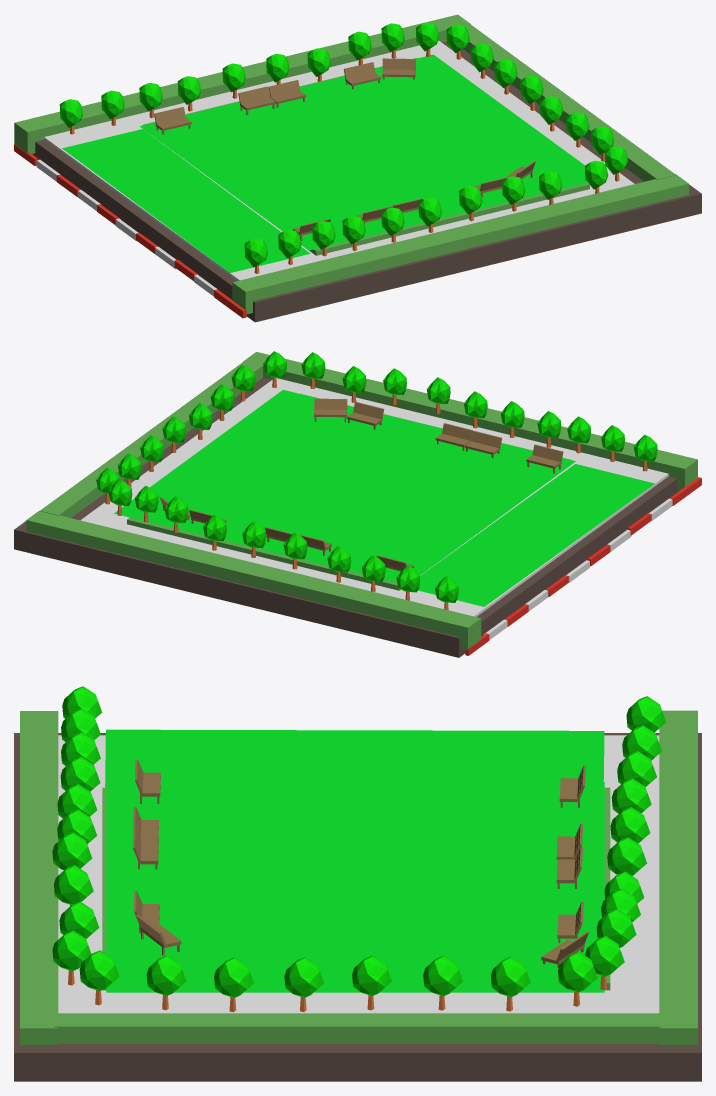
File: sanamluang05.glb
The picture shows the model from 3 angles, top to bottom: view 1: azimuth 30°, elevation 25°; view 2: azimuth 150°, elevation 25°; view 3: azimuth 270°, elevation 25°; orthographic projection. The views are drawn at different scales.
Parts seen in each view (by area): view 1: Plane, ลูกบาศก์, Plane.001, ลูกบาศก์.005, ลูกบาศก์.001, ลูกบาศก์.004, ลูกบาศก์.006, ลูกบาศก์.002, Cube.161, Cube.158, Cube.163, Cube.159 (+29 smaller); view 2: Plane, ลูกบาศก์, Plane.001, ลูกบาศก์.004, ลูกบาศก์.001, ลูกบาศก์.005, ลูกบาศก์.006, ลูกบาศก์.002, Cube.154, Cube.162, Cube.155, Cube.157 (+28 smaller); view 3: Plane, ลูกบาศก์, Plane.001, ลูกบาศก์.001, ลูกบาศก์.006, ลูกบาศก์.004, ลูกบาศก์.005, ลูกบาศก์.002, Cylinder.050, Cylinder.026, Cylinder.047, Cylinder.048 (+32 smaller).
Part boxes in pixels (x1,y1,x2,y2): Plane: (140,54,587,250); ลูกบาศก์: (32,28,701,322); Plane.001: (62,129,310,272); ลูกบาศก์.005: (232,174,688,314); ลูกบาศก์.001: (44,41,634,280); ลูกบาศก์.004: (14,14,470,153); ลูกบาศก์.006: (462,23,675,181); ลูกบาศก์.002: (143,58,589,255); Cube.161: (238,86,275,115); Cube.158: (382,58,415,79); Cube.163: (154,107,191,134); Cube.159: (344,62,381,89); Plane: (114,390,575,582); ลูกบาศก์: (14,362,679,657); Plane.001: (418,464,654,606); ลูกบาศก์.004: (26,510,481,650); ลูกบาศก์.001: (80,378,668,616); ลูกบาศก์.005: (243,352,697,490); ลูกบาศก์.006: (40,360,263,517); ลูกบาศก์.002: (127,393,570,590); Cube.154: (314,398,347,422); Cube.162: (526,444,563,473); Cube.155: (347,402,384,429); Cube.157: (465,431,502,457); Plane: (106,782,604,992); ลูกบาศก์: (14,733,701,1081); Plane.001: (105,729,604,787); ลูกบาศก์.001: (58,735,659,1013); ลูกบาศก์.006: (54,1013,661,1043); ลูกบาศก์.004: (659,710,697,1044); ลูกบาศก์.005: (20,711,58,1044); ลูกบาศก์.002: (102,787,610,990); Cylinder.050: (79,950,119,1005); Cylinder.026: (423,955,462,1010); Cylinder.047: (284,957,324,1011); Cylinder.048: (214,957,253,1012).
Bounding box in the file's own units: 1138 × 156 × 1010.
